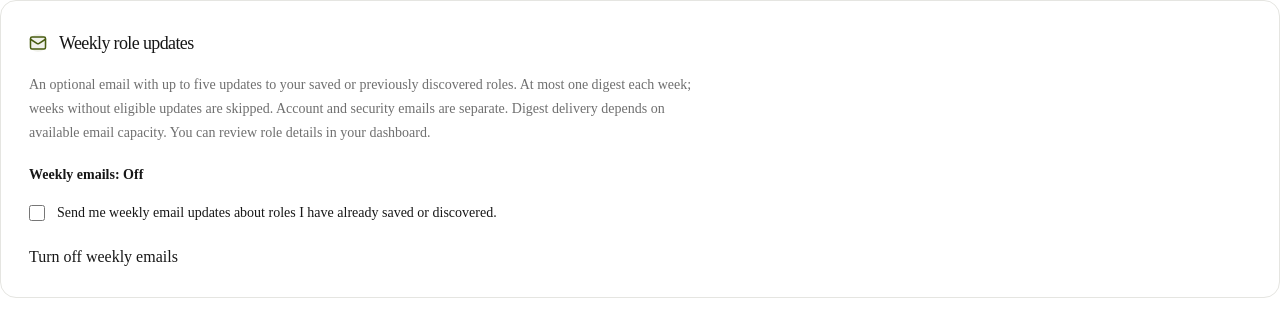
Scenario: explicit owner-bound digest preference › loads read-only and sends the exact generation only after explicit change and save
The image size is (1280, 315).
Expected: the button "Turn off weekly emails" is disabled, 29,245 -> 178,269
Click the checkbox.
click(37, 213)  # box 29,205 -> 45,221
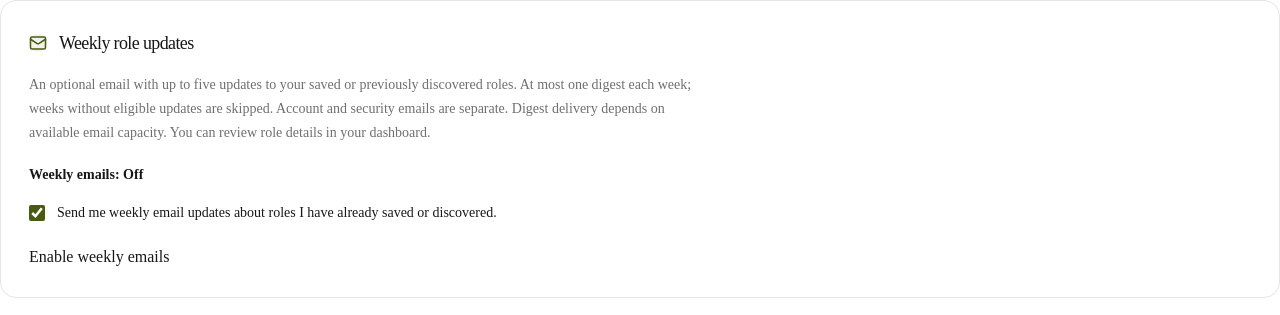
Click the button "Enable weekly emails".
click(99, 257)  # box 29,245 -> 169,269
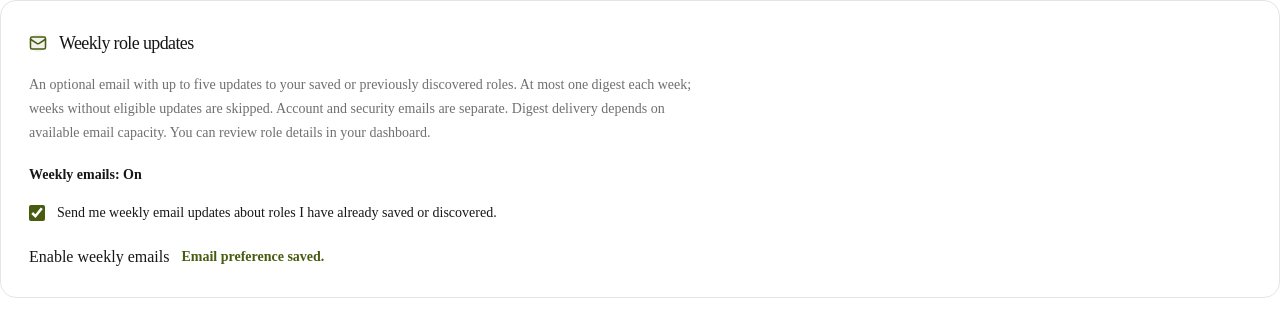
Now the text "Email preference saved." is shown, box 181,247 -> 324,267
Now the text "Weekly emails: On" is shown, box 29,167 -> 142,182
